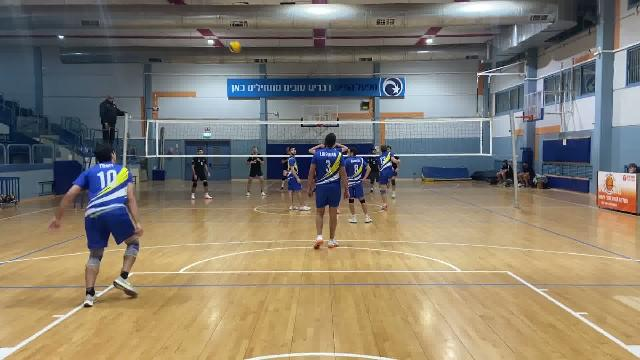ball: (227, 39, 244, 55)
